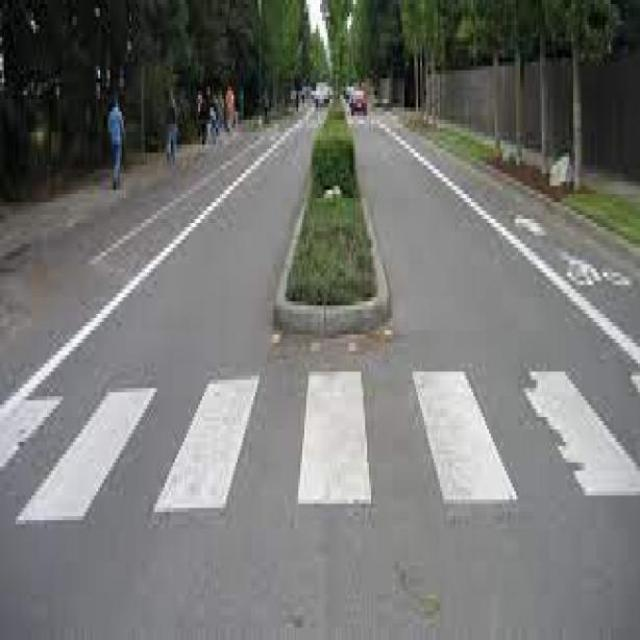pedestrian lane: (0, 371, 640, 522)
